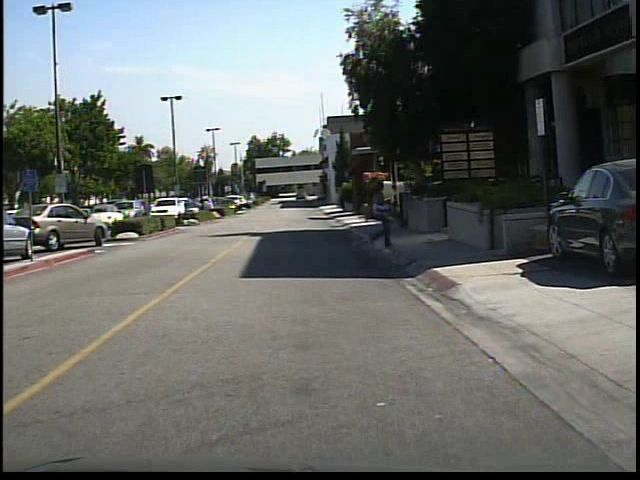person: (363, 175, 396, 252)
